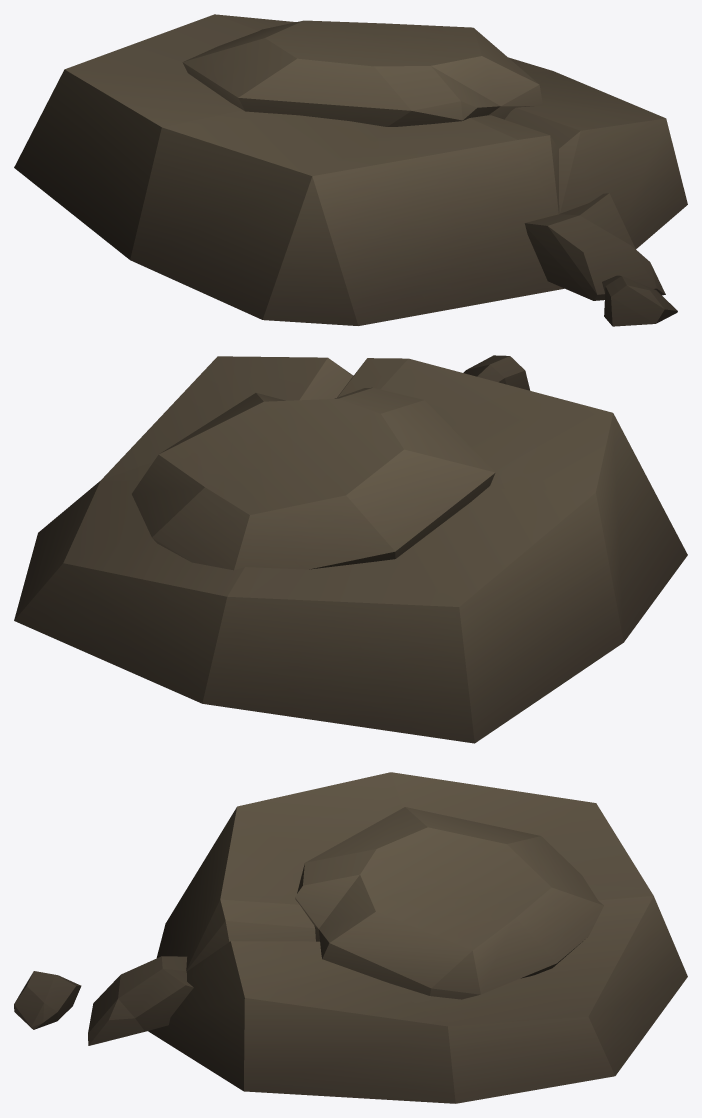
Rendered from LandMass_B.fbx.
3 renders of one model, top to bottom at view 1: azimuth 30°, elevation 25°; view 2: azimuth 150°, elevation 25°; view 3: azimuth 270°, elevation 25°, orthographic. The views are drawn at different scales.
Visible parts, largest first — view 1: LandMass_B; view 2: LandMass_B; view 3: LandMass_B.
Boxes of the visible parts, x1=… form: LandMass_B: x1=14, y1=14, x2=687, y2=326; LandMass_B: x1=14, y1=355, x2=687, y2=743; LandMass_B: x1=14, y1=772, x2=687, y2=1103.
Size of the model in its own units: 1750 by 489 by 2194.
